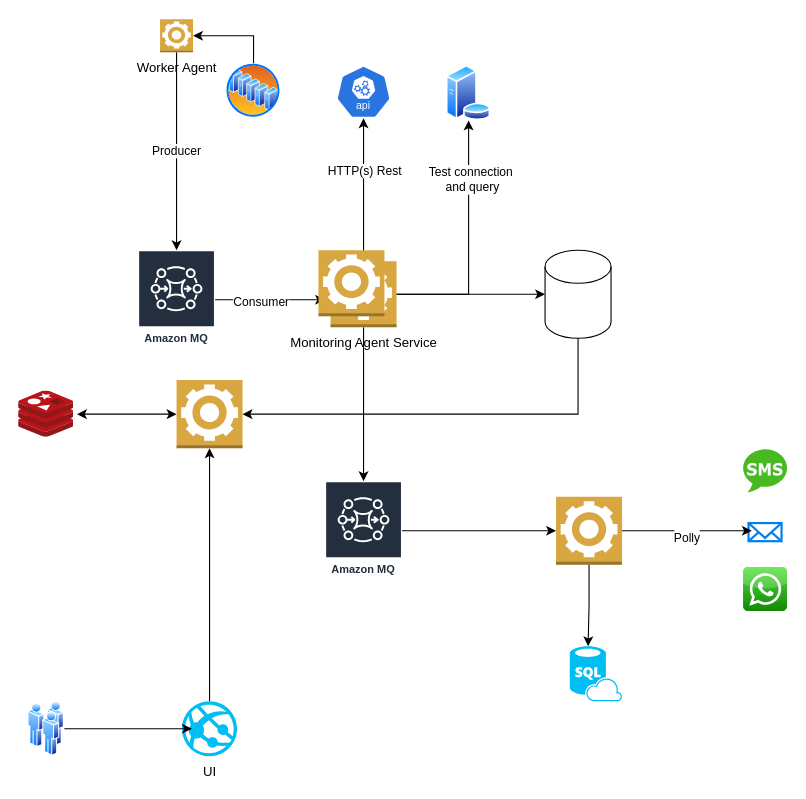
The diagram is 806 pixels wide and 799 high, and some of its shapes have lost their labels. The shapes that lost their labels are listed below. From the top down, each one's box as (x1, y1, x2, y2) in pixels, then its label:
(544, 249, 611, 338): InfluxDb
(175, 379, 243, 448): Dashboard Service
(555, 496, 622, 565): Notification Service
